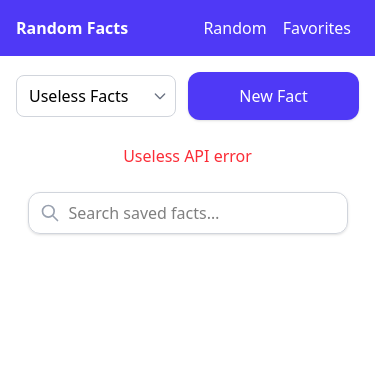
Test: Fact‑viewer source switching › switches to History Facts source
The width and height of the screenshot is (375, 390).
Select "History Facts" in the dropdown with id "sourceSelect": (96, 96) [16,75,176,117]
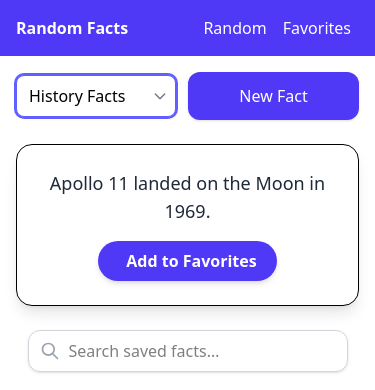
Check: the text "Apollo 11 landed on the Moon in 1969." is shown, box [41,169,334,225]
